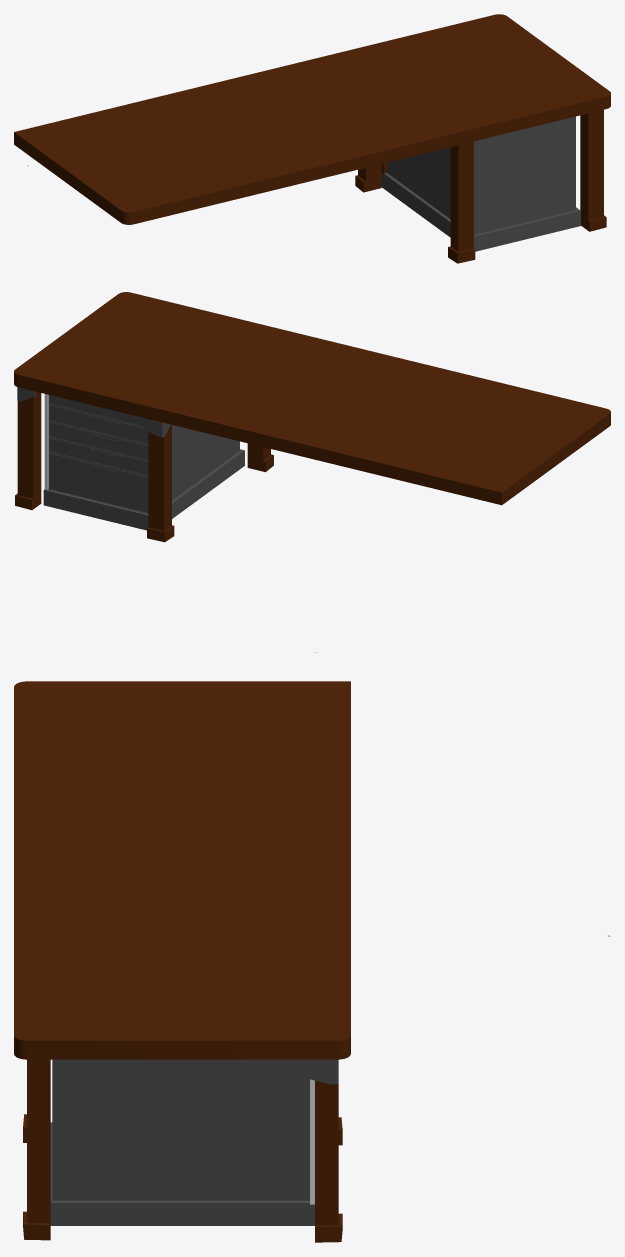
File: meja 2_Scene.fbx
The picture shows the model from 3 angles, top to bottom: view 1: azimuth 30°, elevation 25°; view 2: azimuth 150°, elevation 25°; view 3: azimuth 270°, elevation 25°; orthographic projection. The views are drawn at different scales.
Visible parts, largest first — view 1: Cube.012, Cube.013; view 2: Cube.012, Cube.013; view 3: Cube.012, Cube.013, Cube.019.
Boxes of the visible parts, x1=… form: Cube.012: x1=14, y1=14, x2=610, y2=263; Cube.013: x1=381, y1=116, x2=580, y2=251; Cube.012: x1=14, y1=292, x2=610, y2=542; Cube.013: x1=43, y1=395, x2=244, y2=530; Cube.012: x1=14, y1=681, x2=350, y2=1242; Cube.013: x1=50, y1=1059, x2=314, y2=1225; Cube.019: x1=304, y1=1059, x2=338, y2=1084.
Size of the model in its own units: 505 by 132 by 354.
